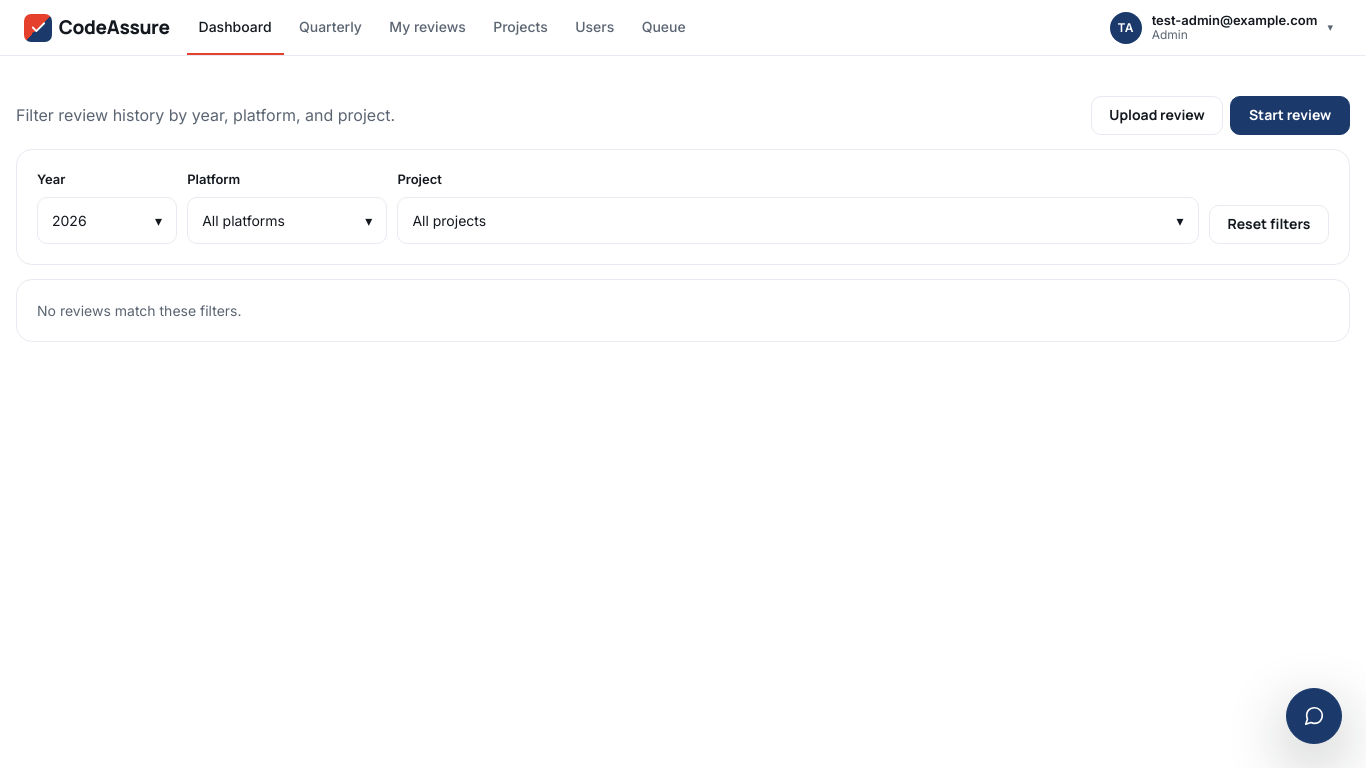
Test case: clicking Start review opens the dialog
Click the button "Start review" at (1290, 116), box [1230,96,1350,135]
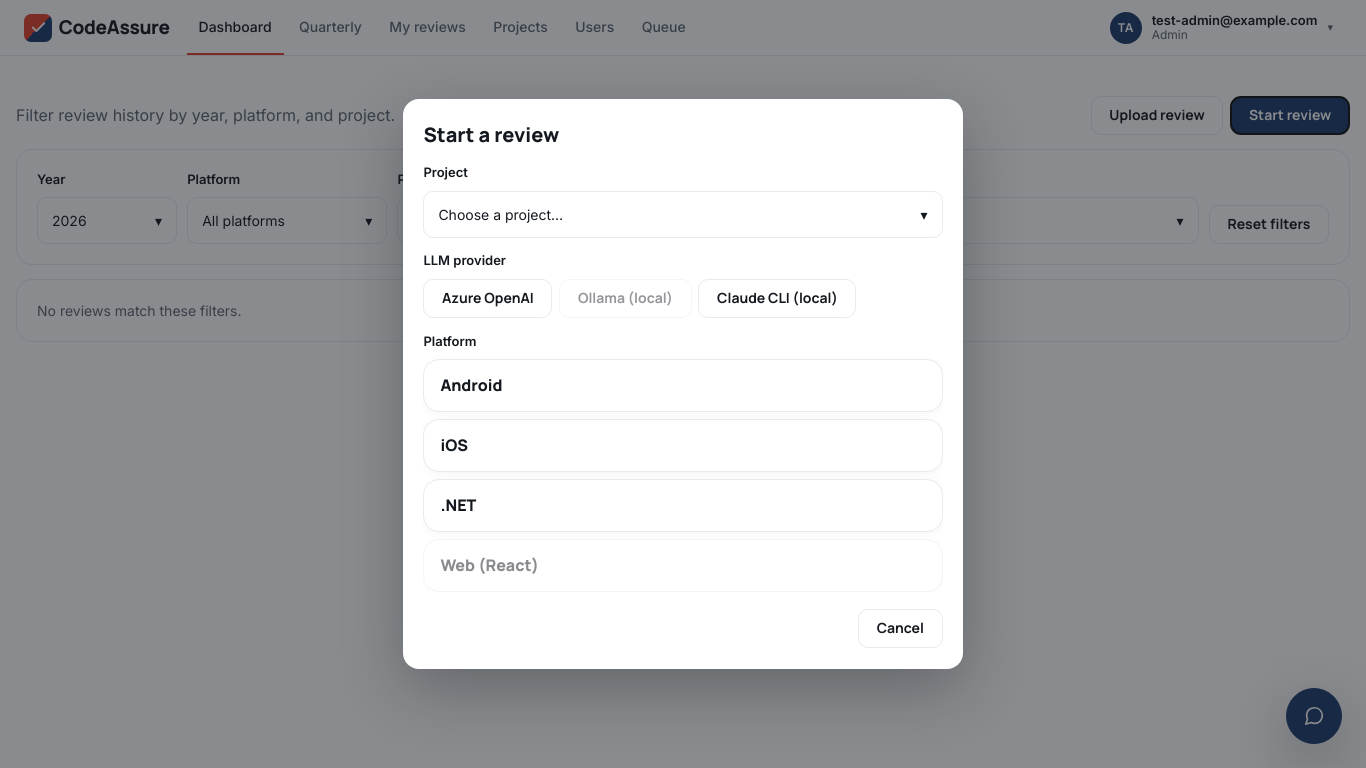
Check: the text "Start a review" is shown, box [423,121,559,148]
